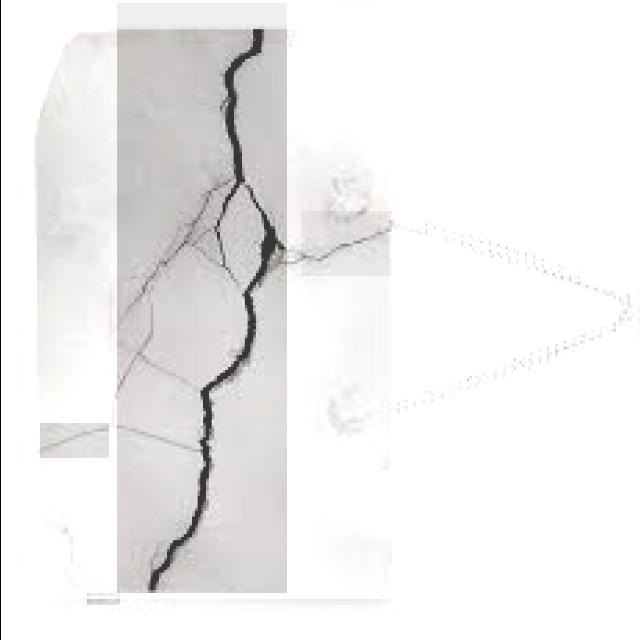Damage-bag: (118, 29, 286, 592), (294, 214, 389, 261), (40, 422, 109, 458)
